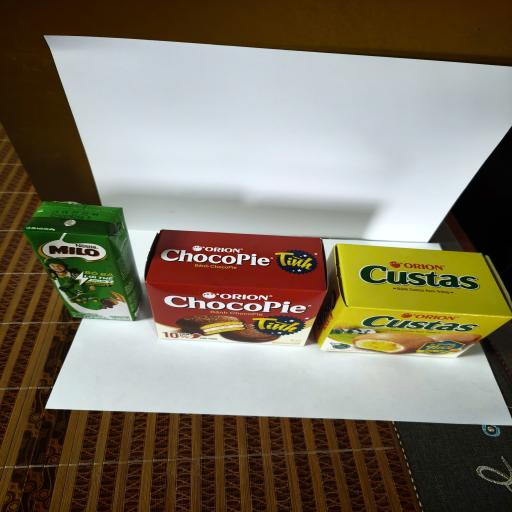chocopie: (144, 230, 338, 346)
custas: (316, 244, 512, 358)
milo: (22, 201, 144, 321)
